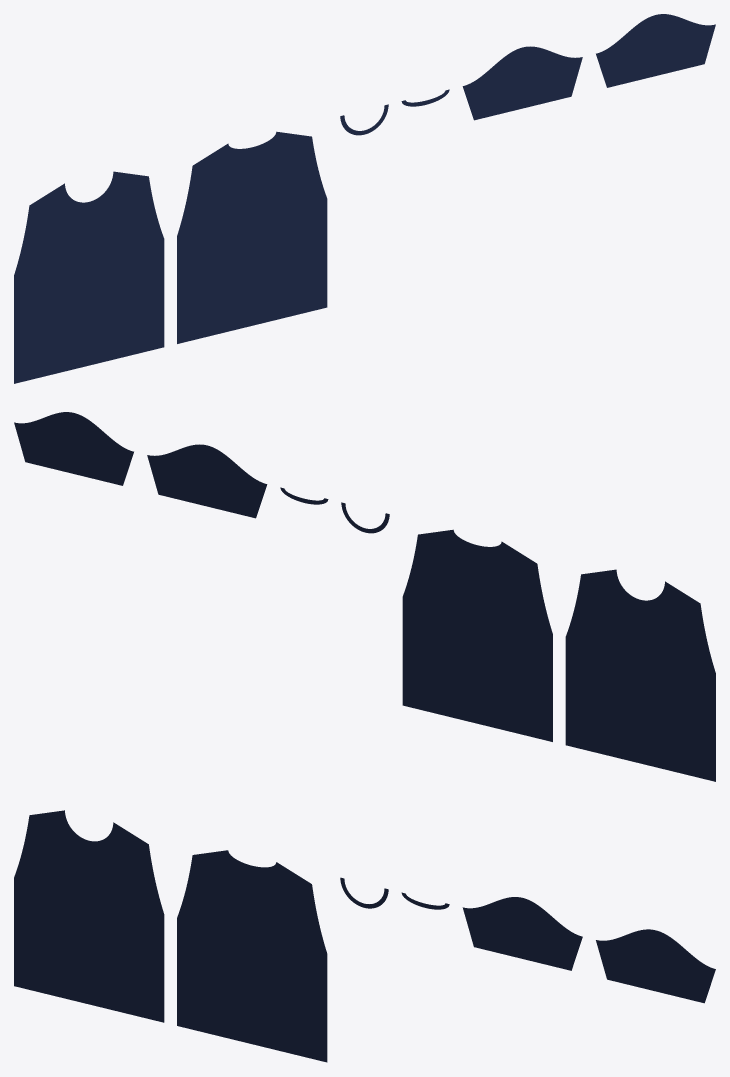
The model's file is camiseta-basica-supima-unisex-talla-L.glb.
3 renders of one model, top to bottom at view 1: azimuth 30°, elevation 25°; view 2: azimuth 150°, elevation 25°; view 3: azimuth 330°, elevation 25°, orthographic.
Parts seen in each view (by area): view 1: patron-espalda, patron-delantero, patron-manga-izq, patron-manga-der; view 2: patron-espalda, patron-delantero, patron-manga-izq, patron-manga-der; view 3: patron-espalda, patron-delantero, patron-manga-der, patron-manga-izq.
Boxes of the visible parts, x1,y1,x2,y2 form: patron-espalda: (177,131,327,343); patron-delantero: (14,171,164,383); patron-manga-izq: (462,46,582,120); patron-manga-der: (596,14,715,87); patron-espalda: (402,529,552,741); patron-delantero: (565,569,715,781); patron-manga-izq: (147,444,267,518); patron-manga-der: (14,412,133,485); patron-espalda: (177,850,327,1062); patron-delantero: (14,810,164,1022); patron-manga-der: (596,929,715,1003); patron-manga-izq: (462,897,582,970).
Bounding box in the file's own units: 2.73 × 0.79 × 0.
